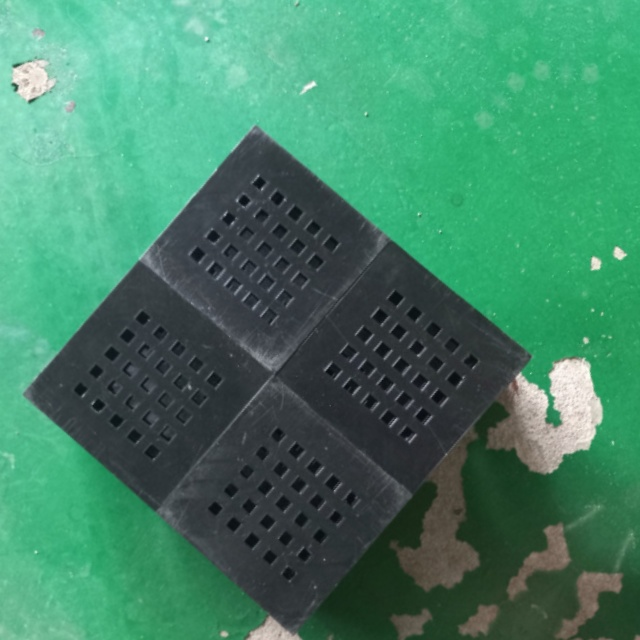pallet: (15, 120, 537, 635)
